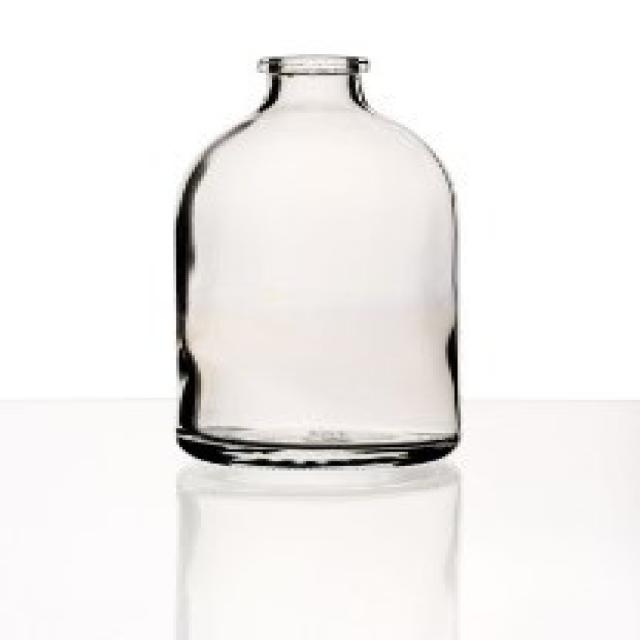electronic: (168, 51, 473, 473)
